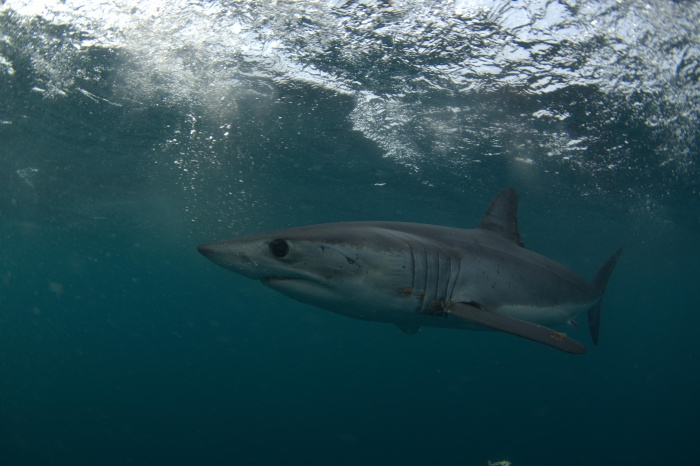Mako: (180, 181, 631, 363)
